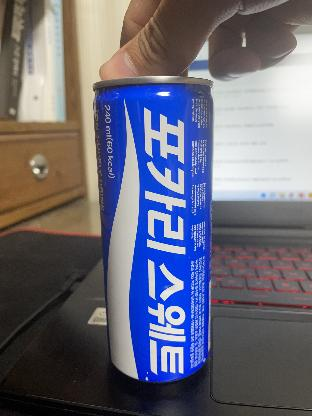Can: (105, 80, 225, 392)
